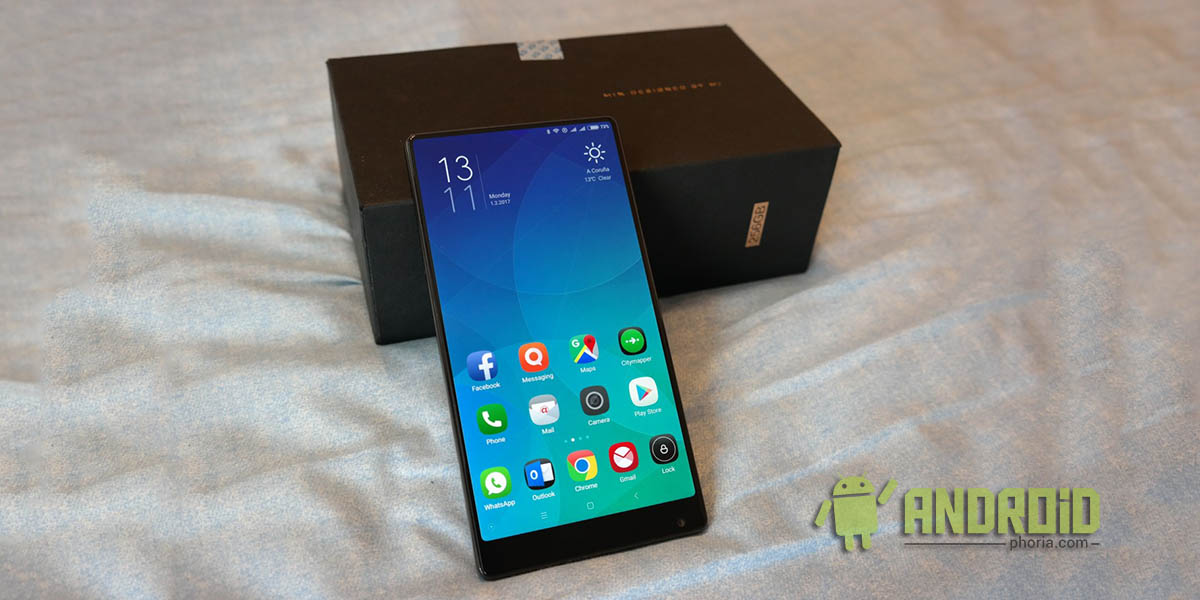smartphone: (404, 115, 710, 582)
